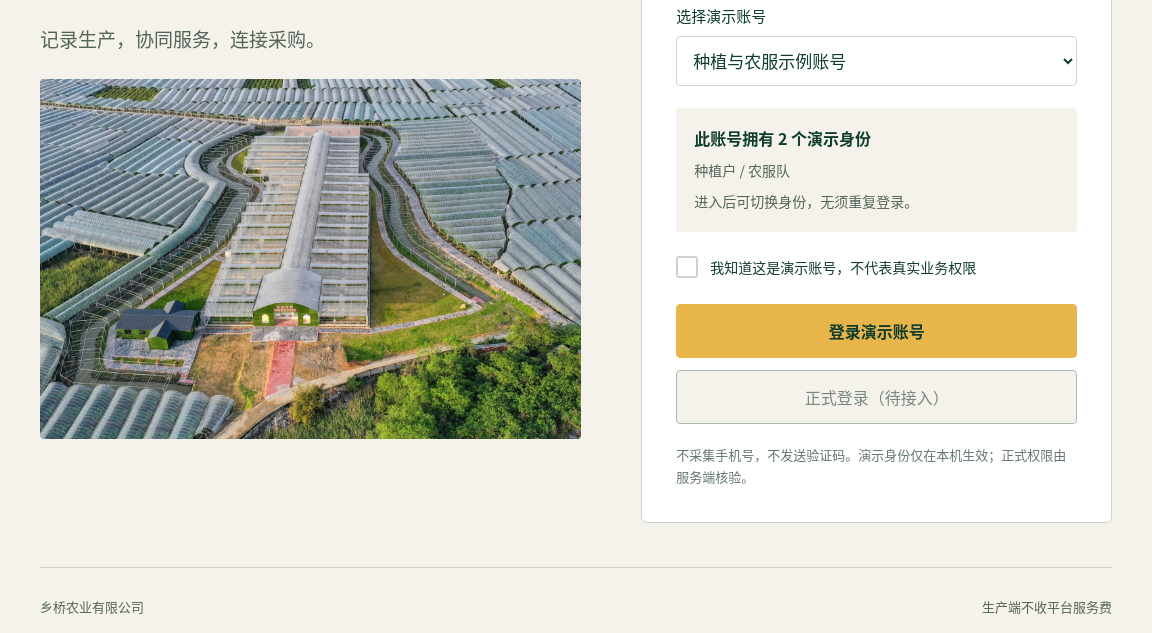
Test: 主体端一次登录、多身份工作台 › 没有手机号、密码和虚假验证码，进入需要演示确认
(page scrolled)
Check: the heading "此账号拥有 2 个演示身份" is shown, box left=694, top=126, right=871, bottom=150
Check: the button "正式登录（待接入）" is disabled, box left=676, top=370, right=1077, bottom=424
Click the button "登录演示账号" at (877, 331), box left=676, top=304, right=1077, bottom=358
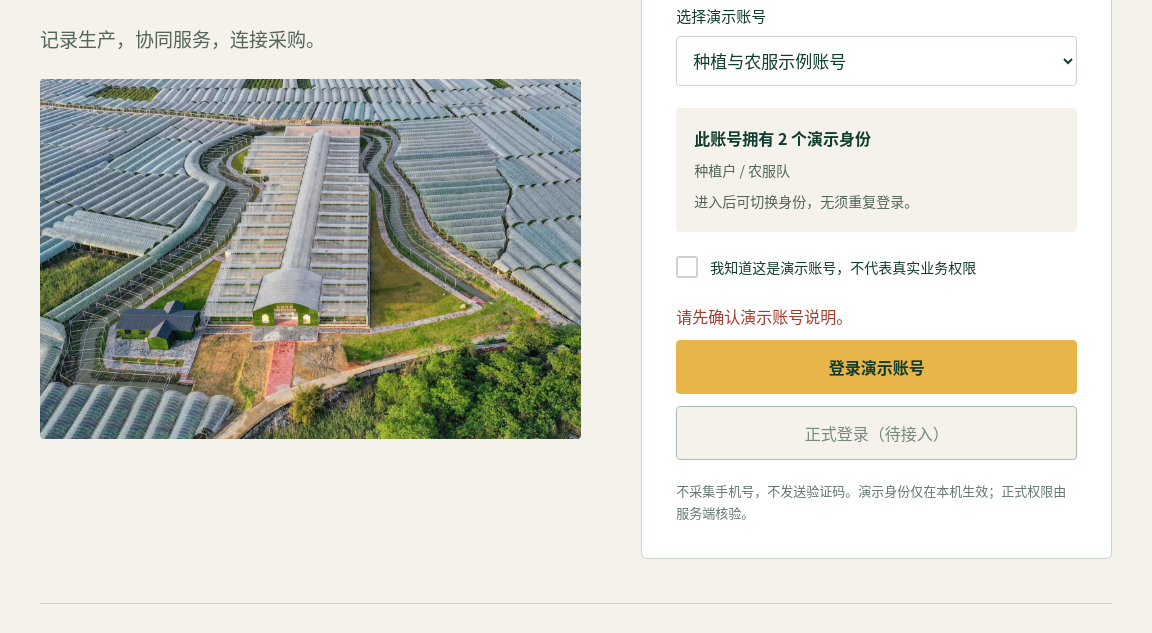
Check: the message shows "确认", box left=676, top=304, right=852, bottom=328
